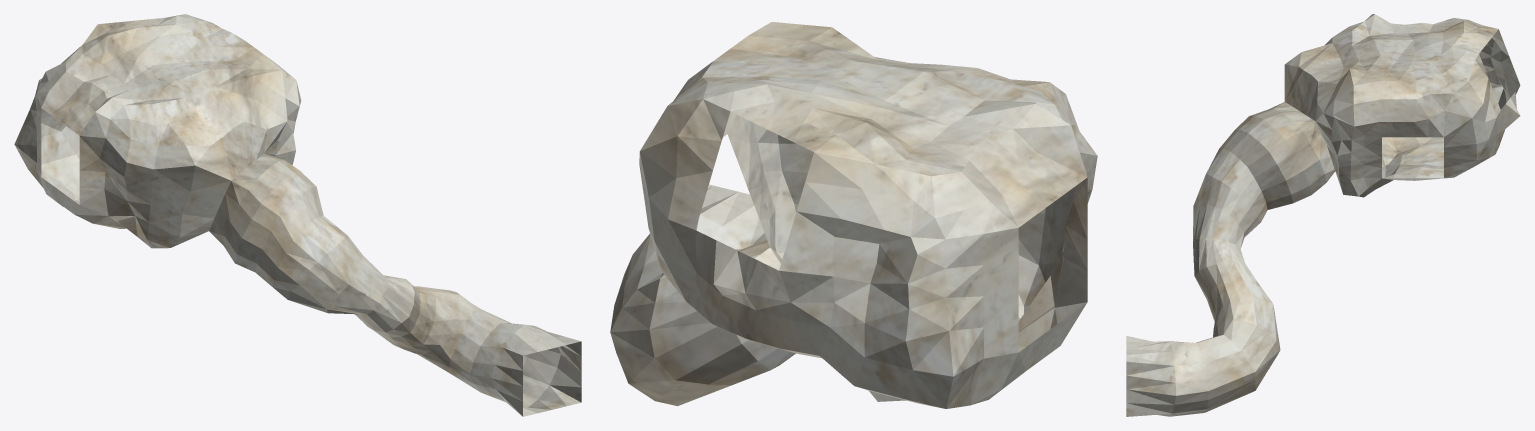
File: main_room.dae
3 renders of one model, left to right at view 1: azimuth 30°, elevation 25°; view 2: azimuth 150°, elevation 25°; view 3: azimuth 270°, elevation 25°, orthographic. The views are drawn at different scales.
Parts seen in each view (by area): view 1: main_room, mines_tunnel; view 2: main_room, mines_tunnel; view 3: main_room, mines_tunnel.
Boxes of the visible parts, x1,y1,x2,y2 form: main_room: (14,14,301,248); mines_tunnel: (209,153,581,416); main_room: (639,22,1097,408); mines_tunnel: (610,184,795,406); main_room: (1284,14,1520,197); mines_tunnel: (1126,102,1335,416).
Size of the model in its own units: 447 by 458 by 365.
1 material, 1 textured.
